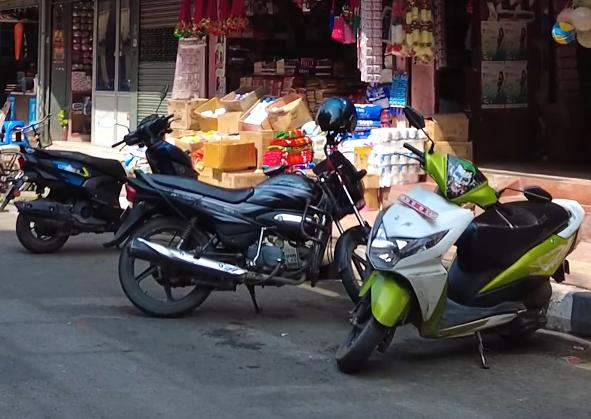bike: (113, 145, 379, 324)
scooter: (331, 141, 586, 378), (9, 110, 194, 260)
